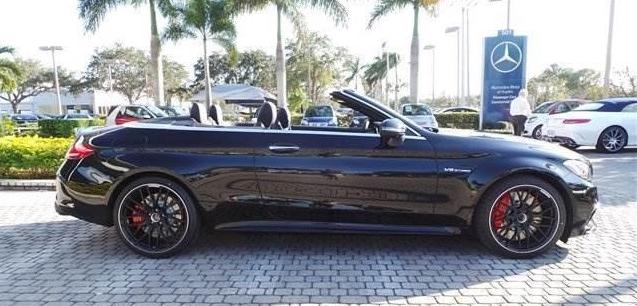C63AMG: (54, 79, 600, 262)
